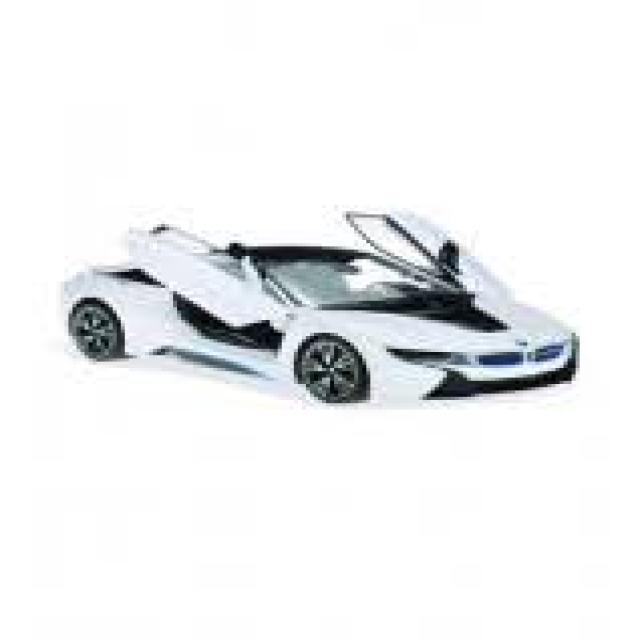Car: (61, 205, 580, 403)
